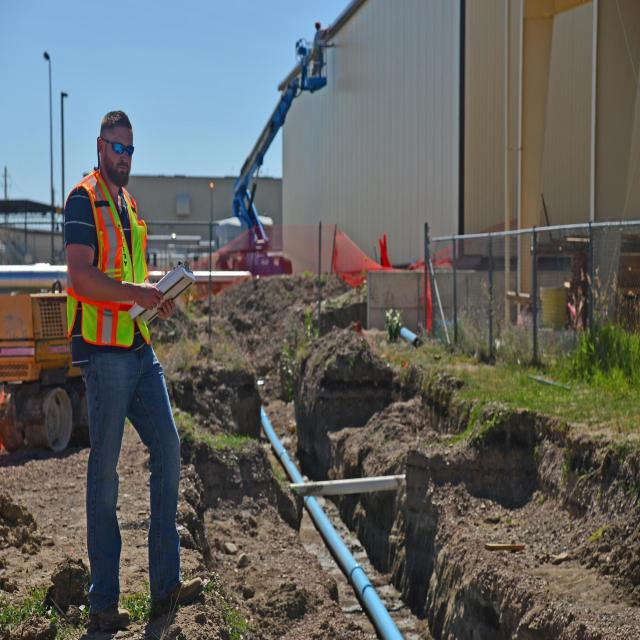Vest: (64, 163, 155, 345)
